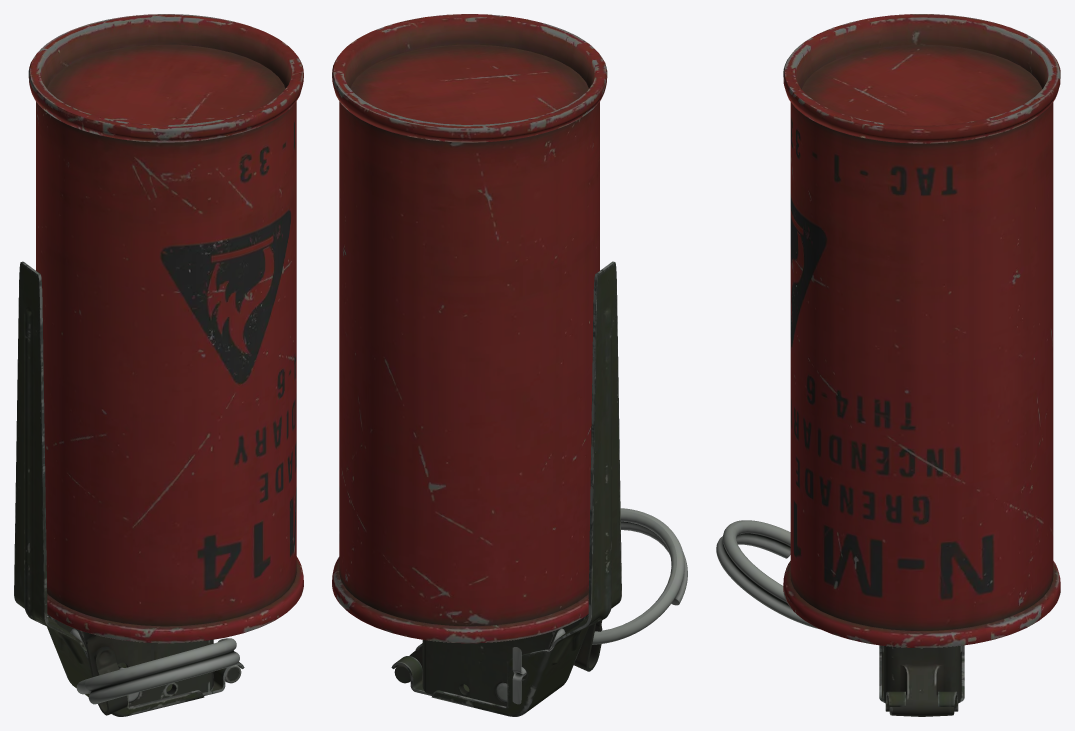
The model's file is item_napalm.glb.
3 renders of one model, left to right at view 1: azimuth 30°, elevation 25°; view 2: azimuth 150°, elevation 25°; view 3: azimuth 270°, elevation 25°, orthographic.
Parts seen in each view (by area): view 1: weapon_incendiarygrenade; view 2: weapon_incendiarygrenade; view 3: weapon_incendiarygrenade.
Part boxes in pixels (x1,y1,x2,y2): weapon_incendiarygrenade: [14, 14, 303, 716]; weapon_incendiarygrenade: [332, 14, 687, 716]; weapon_incendiarygrenade: [716, 14, 1060, 716].
Size of the model in its own units: 0.1339 by 0.3 by 0.1508.
Materials: 1 (1 with a texture image).
